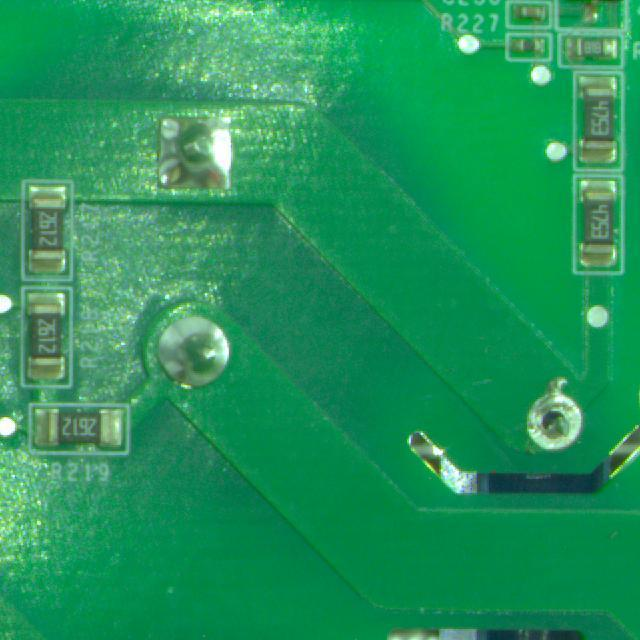Insufficient solder: (511, 380, 592, 464)
